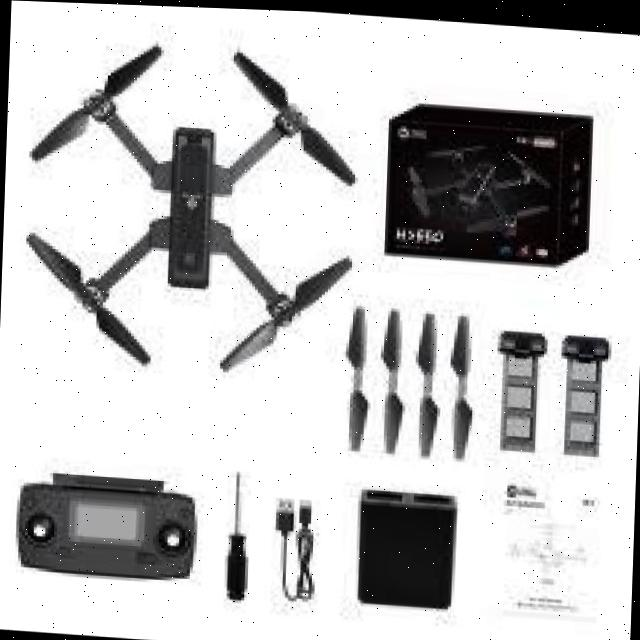drone: (15, 29, 369, 393)
